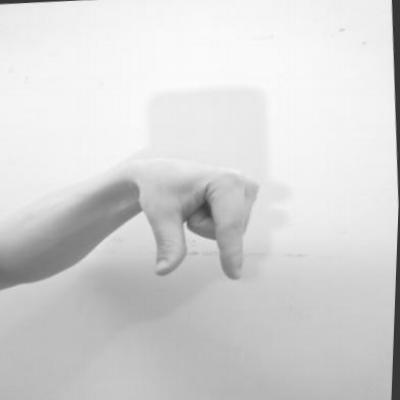hand: (130, 147, 274, 290)
